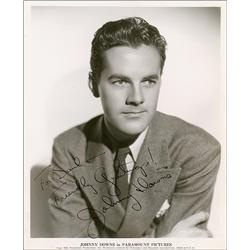bad: (100, 66, 163, 129)
